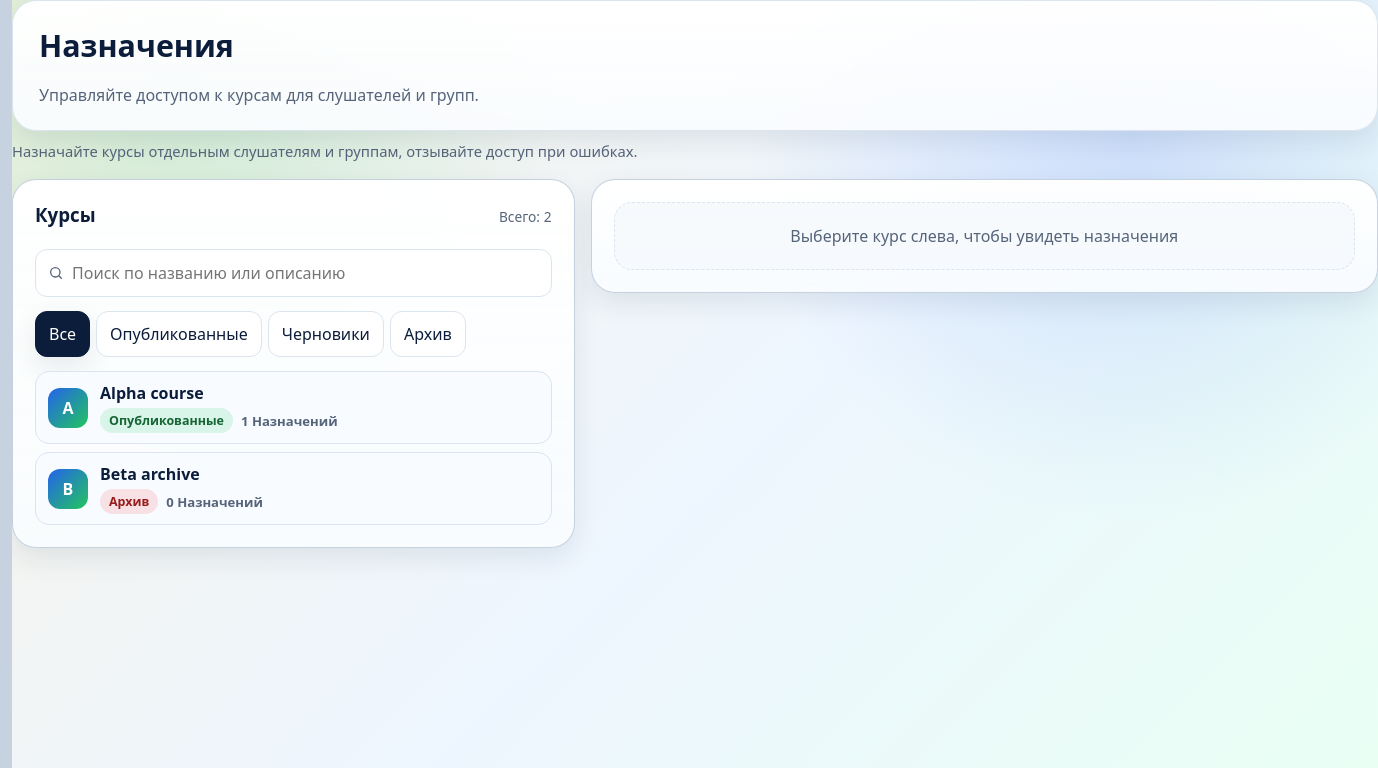
Test case: AssignmentsPage › switches Assigned/Assign tabs
Click the button "A Alpha course Опубликованные 1 Назначений" at (68, 408), box [35,371,552,444]
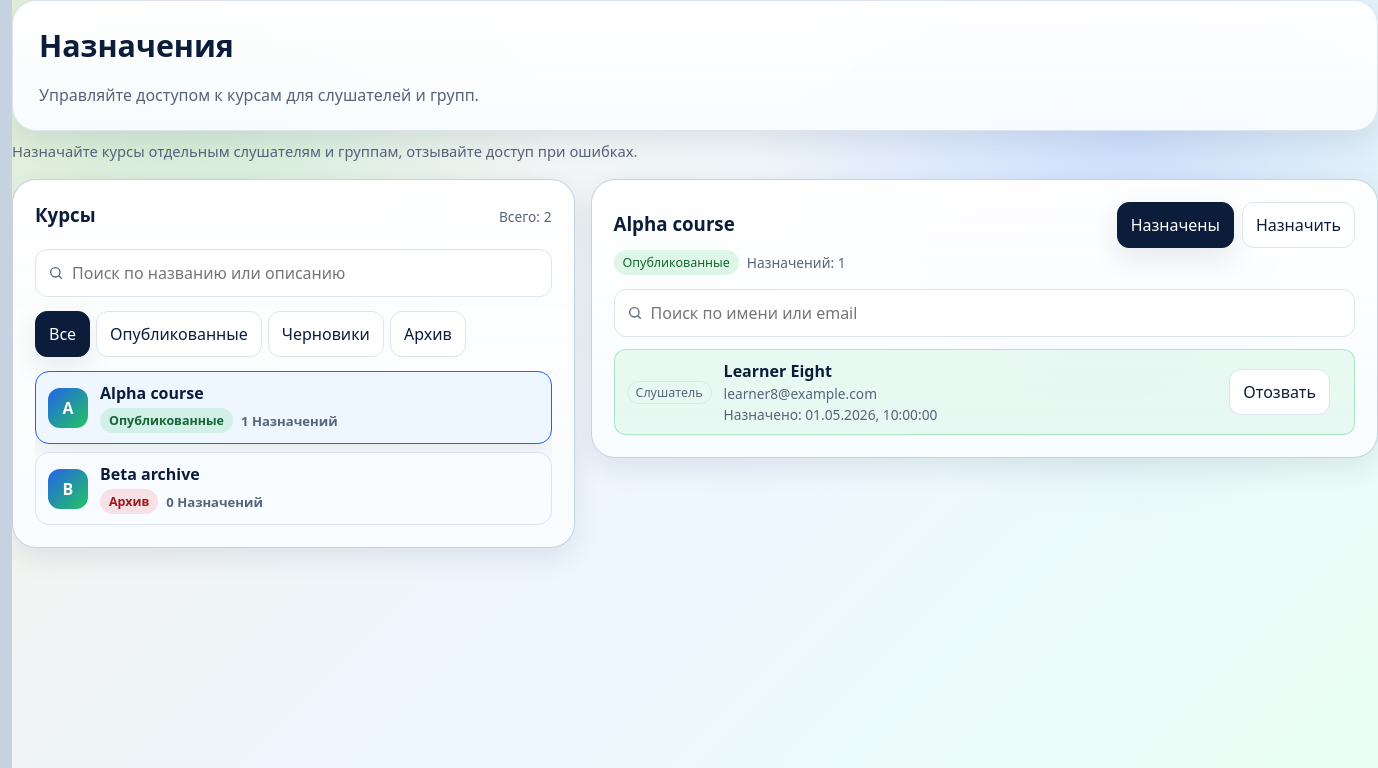
Expected: the button "Отозвать" is shown, [1229,369,1330,415]
Click the tab "Назначить" at (1298, 225), box [1242,202,1355,248]
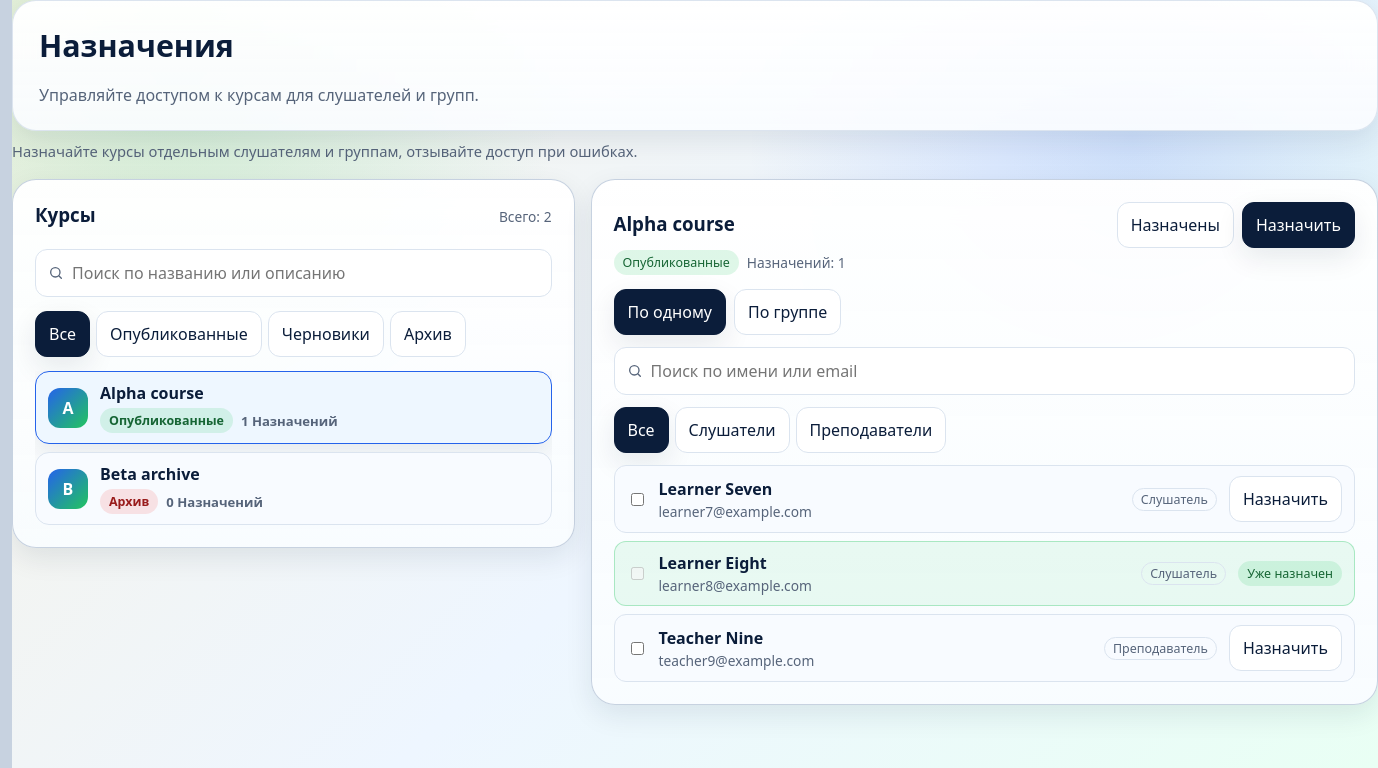
Expected: the checkbox named "Learner Seven" is shown, [630,492,644,506]
